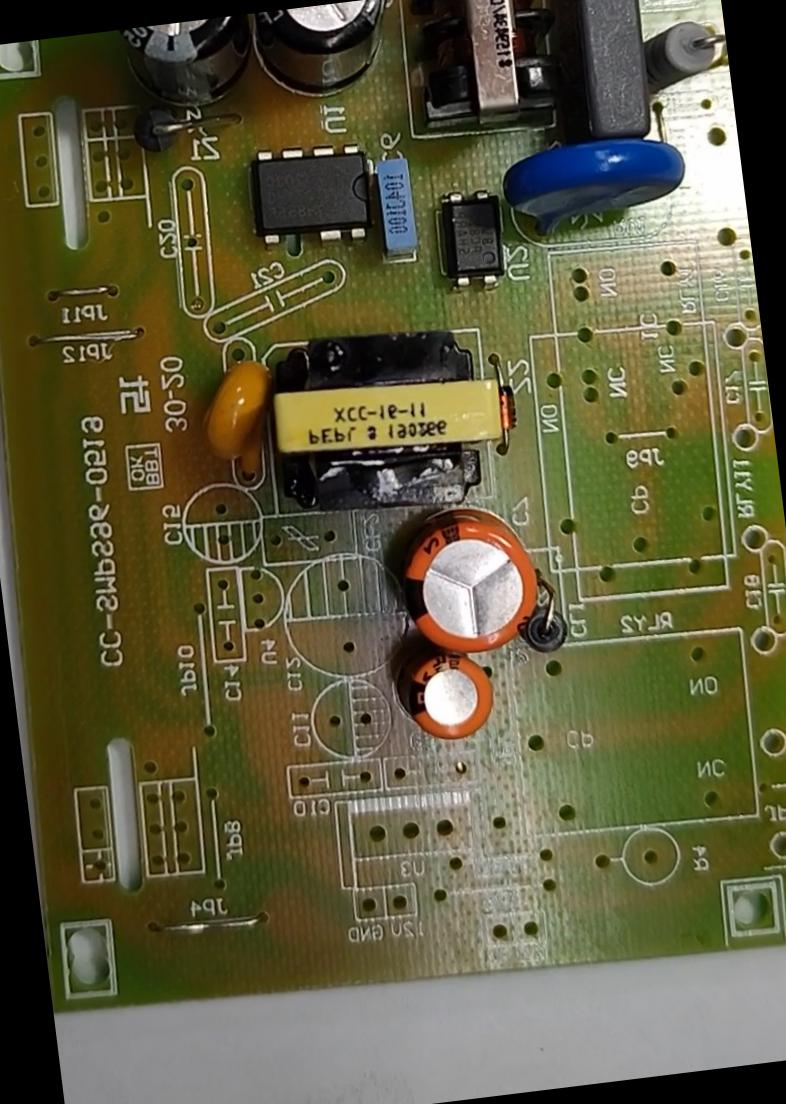Cap1: (366, 477, 560, 672)
Cap2: (388, 626, 510, 756)
Cap3: (232, 0, 402, 116)
Cap4: (108, 13, 270, 121)
MOSFET: (240, 128, 389, 272)
Mov: (486, 124, 706, 250)
Resistor: (622, 7, 732, 104)
Transformer: (233, 300, 522, 534), (389, 0, 586, 147)
